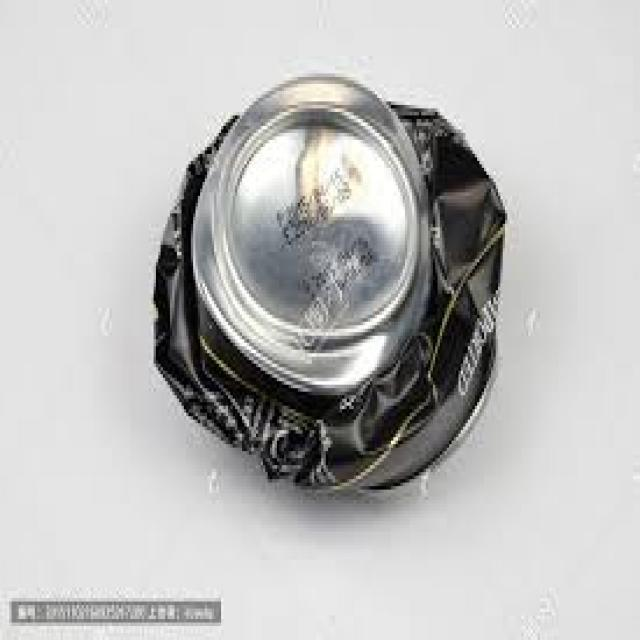recyclable: (150, 72, 507, 498)
